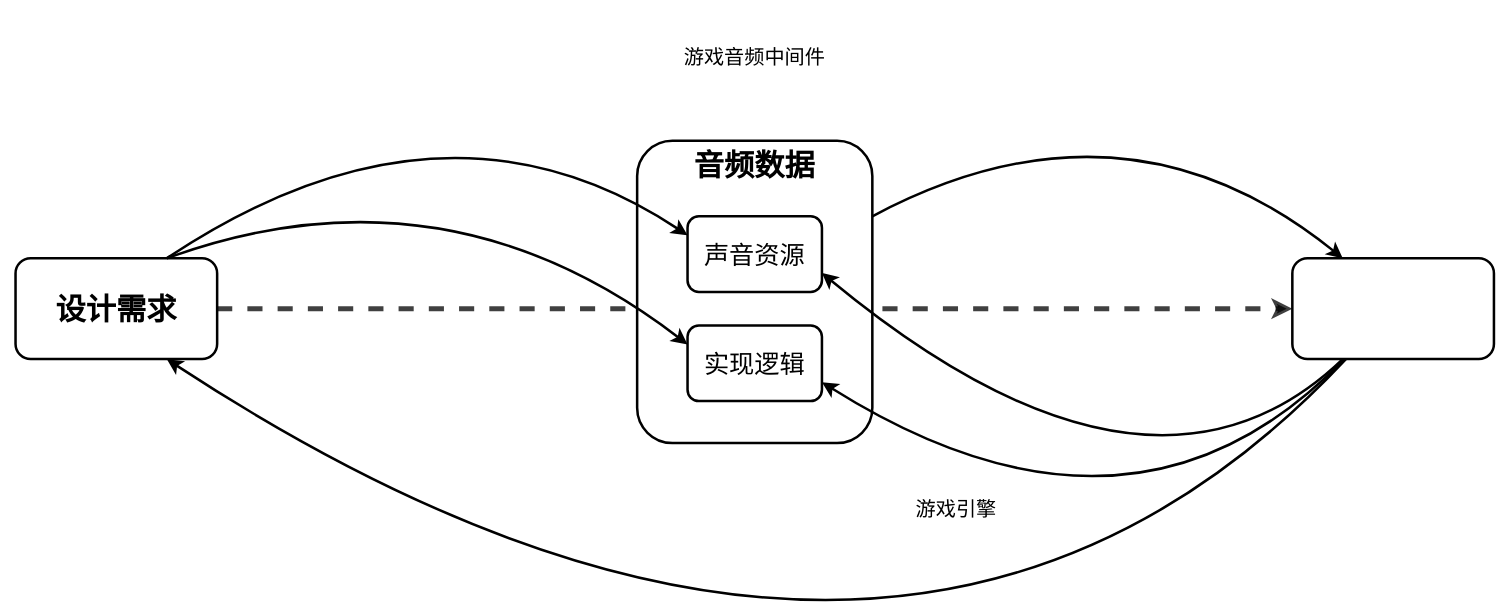
The diagram is 1509 pixels wide and 616 high, and some of its shapes have lost their labels. The shapes that lost their labels are listed below. From the top down, each one's centre as x and y in pixels, then its label:
(x=578, y=203): 数字音频工作站
(x=1393, y=308): 游戏表现
